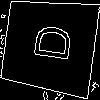D: (24, 20, 72, 63)
